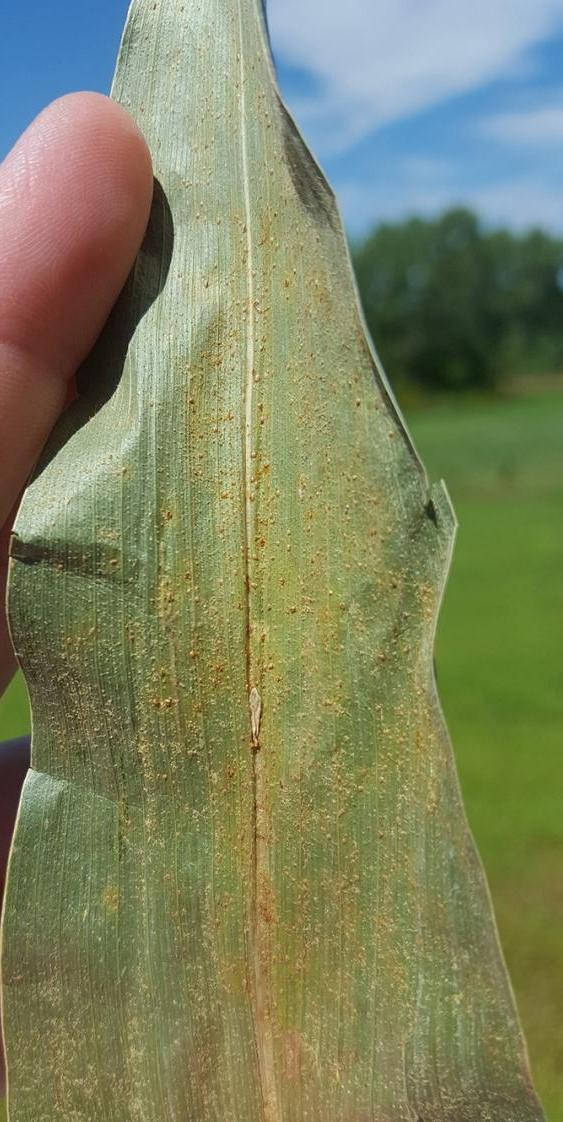Corn_Common_Rust: (20, 351, 545, 1122), (112, 2, 378, 362)
